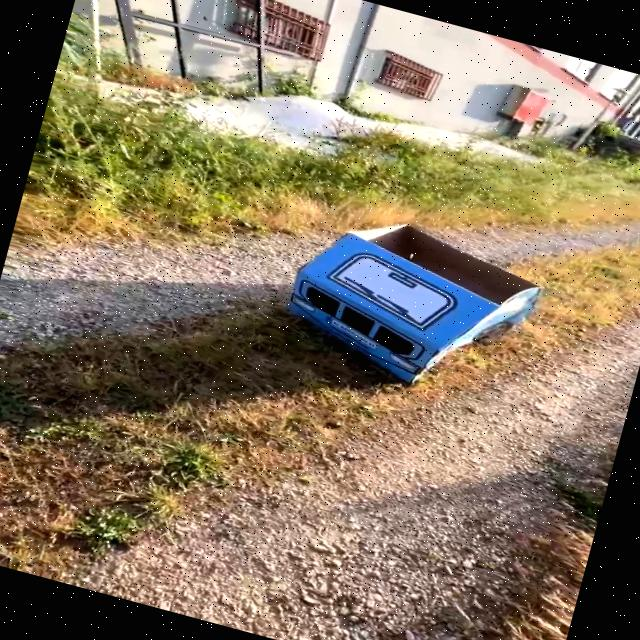blue_car: (201, 157, 584, 442)
